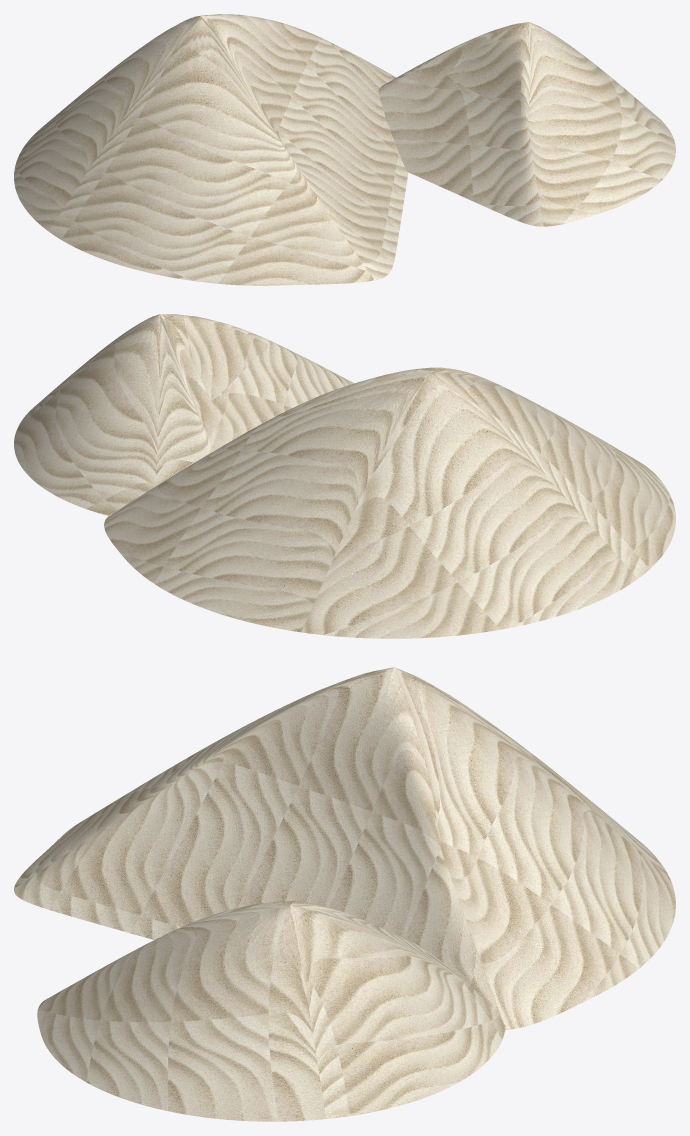
The model's file is graveField.fbx.
3 views of the same model, one above another, from view 1: azimuth 30°, elevation 25°; view 2: azimuth 150°, elevation 25°; view 3: azimuth 270°, elevation 25° (orthographic). The views are drawn at different scales.
Parts seen in each view (by area): view 1: 圓錐體.001; view 2: 圓錐體.001; view 3: 圓錐體.001.
Part boxes in pixels (x1,y1,x2,y2): 圓錐體.001: (14,14,675,285); 圓錐體.001: (14,314,675,638); 圓錐體.001: (14,667,675,1121).
Size of the model in its own units: 594 by 160 by 466.
Materials: 1 (1 with a texture image).
